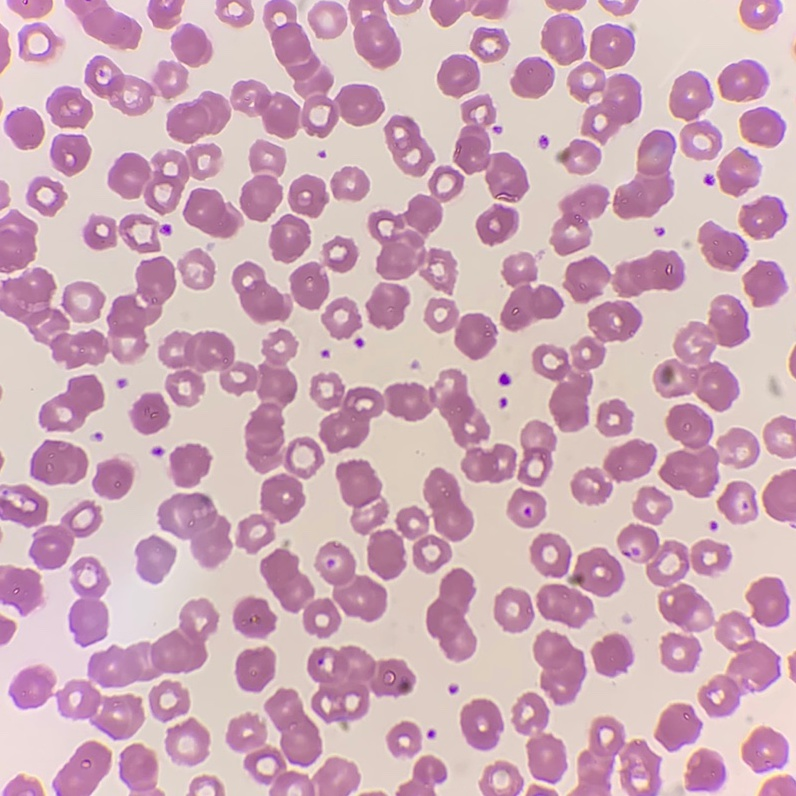RBC: (310, 369, 515, 482), (57, 600, 218, 739), (159, 330, 296, 471), (264, 0, 383, 135), (533, 301, 641, 431), (369, 166, 463, 291), (654, 295, 748, 410), (0, 268, 108, 367), (618, 525, 713, 631), (308, 646, 414, 726), (699, 612, 779, 716), (454, 95, 527, 201), (108, 145, 219, 212), (260, 548, 340, 637), (108, 257, 174, 360), (573, 717, 659, 795), (568, 63, 640, 140), (660, 404, 718, 497), (316, 543, 386, 620), (158, 493, 230, 567), (614, 130, 674, 217), (237, 475, 304, 552), (30, 501, 100, 568), (501, 253, 562, 329), (427, 569, 475, 659), (368, 507, 428, 578), (425, 299, 496, 358), (266, 689, 321, 764), (85, 57, 155, 114), (552, 184, 607, 254), (232, 81, 299, 137), (534, 631, 585, 704), (336, 461, 387, 533), (39, 375, 103, 430), (66, 0, 140, 47), (232, 263, 291, 321), (424, 469, 472, 540), (69, 557, 107, 644), (244, 748, 314, 795), (350, 0, 399, 67), (167, 92, 230, 142), (614, 251, 684, 296), (54, 742, 110, 795), (385, 116, 433, 176), (184, 189, 240, 237), (570, 548, 623, 596), (30, 440, 87, 484), (518, 421, 555, 486), (538, 584, 593, 627), (699, 223, 747, 270), (0, 211, 36, 272), (461, 699, 503, 749), (604, 440, 655, 480), (120, 744, 160, 795), (656, 704, 700, 750), (542, 16, 584, 64), (747, 577, 788, 626), (670, 71, 711, 119), (719, 60, 768, 100), (566, 257, 609, 302), (0, 566, 41, 613), (431, 0, 507, 25), (742, 728, 786, 771), (740, 196, 785, 238), (744, 261, 786, 306), (719, 149, 760, 195), (0, 485, 46, 526), (166, 720, 208, 764), (399, 756, 446, 795), (590, 25, 633, 67), (367, 284, 409, 327), (241, 175, 281, 220), (270, 215, 309, 261), (528, 733, 565, 781), (47, 87, 91, 127), (136, 537, 175, 582), (592, 634, 633, 676), (10, 667, 53, 707), (740, 107, 784, 146), (438, 55, 479, 96), (512, 57, 554, 97), (494, 588, 533, 631), (291, 263, 328, 308), (763, 469, 795, 521), (172, 24, 211, 66), (531, 534, 570, 576), (236, 648, 274, 691), (315, 758, 359, 795), (477, 204, 518, 243), (62, 282, 103, 321), (233, 598, 274, 637), (171, 444, 209, 486), (719, 428, 759, 467), (93, 459, 133, 498), (149, 681, 189, 720), (718, 481, 756, 522), (289, 176, 327, 216), (686, 750, 724, 790), (5, 109, 43, 148), (51, 135, 89, 174), (119, 214, 158, 252), (322, 298, 360, 337), (131, 393, 168, 433), (556, 140, 600, 173), (285, 438, 322, 477), (682, 121, 720, 158), (27, 177, 64, 215), (661, 634, 699, 671), (309, 1, 346, 38), (413, 535, 450, 572), (633, 487, 671, 523), (19, 25, 58, 60), (179, 249, 214, 288), (514, 693, 548, 733), (508, 490, 544, 527), (572, 469, 611, 503), (226, 716, 265, 750), (481, 762, 521, 795), (166, 370, 203, 405), (692, 540, 730, 574), (764, 417, 795, 457), (331, 167, 369, 199), (597, 400, 631, 435), (471, 28, 507, 61), (323, 238, 357, 271), (155, 62, 187, 97), (740, 0, 778, 29), (250, 141, 285, 172), (84, 216, 116, 249), (388, 722, 420, 754), (148, 0, 182, 28), (217, 0, 253, 26), (8, 0, 51, 17), (3, 778, 42, 795), (761, 778, 795, 795), (0, 617, 14, 644), (0, 28, 9, 67), (547, 0, 584, 9), (388, 0, 408, 13), (606, 1, 624, 14), (0, 181, 8, 207), (528, 787, 554, 795), (790, 657, 795, 678), (790, 354, 795, 372), (500, 375, 509, 384), (193, 778, 202, 787), (626, 0, 636, 8), (161, 225, 170, 233), (215, 786, 223, 795)
